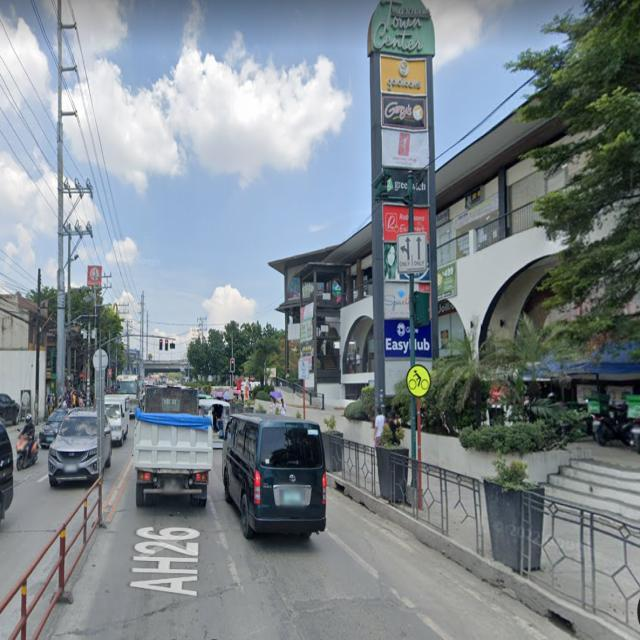bike lane: (404, 359, 434, 404)
